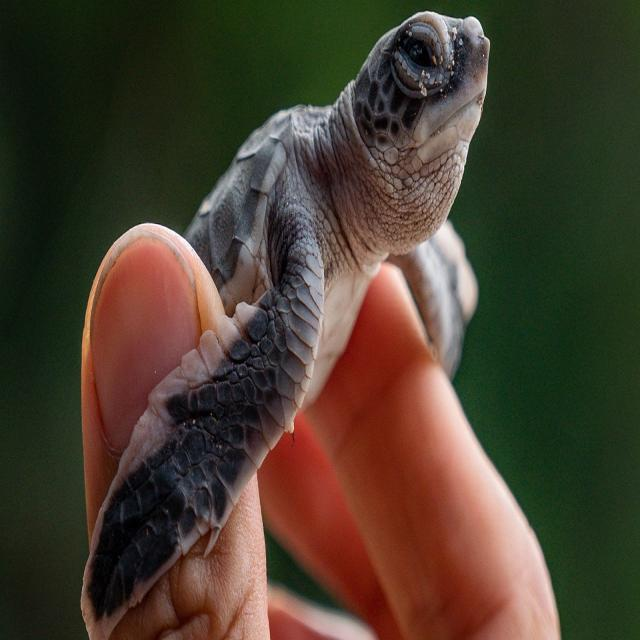turtle: (234, 67, 512, 376)
